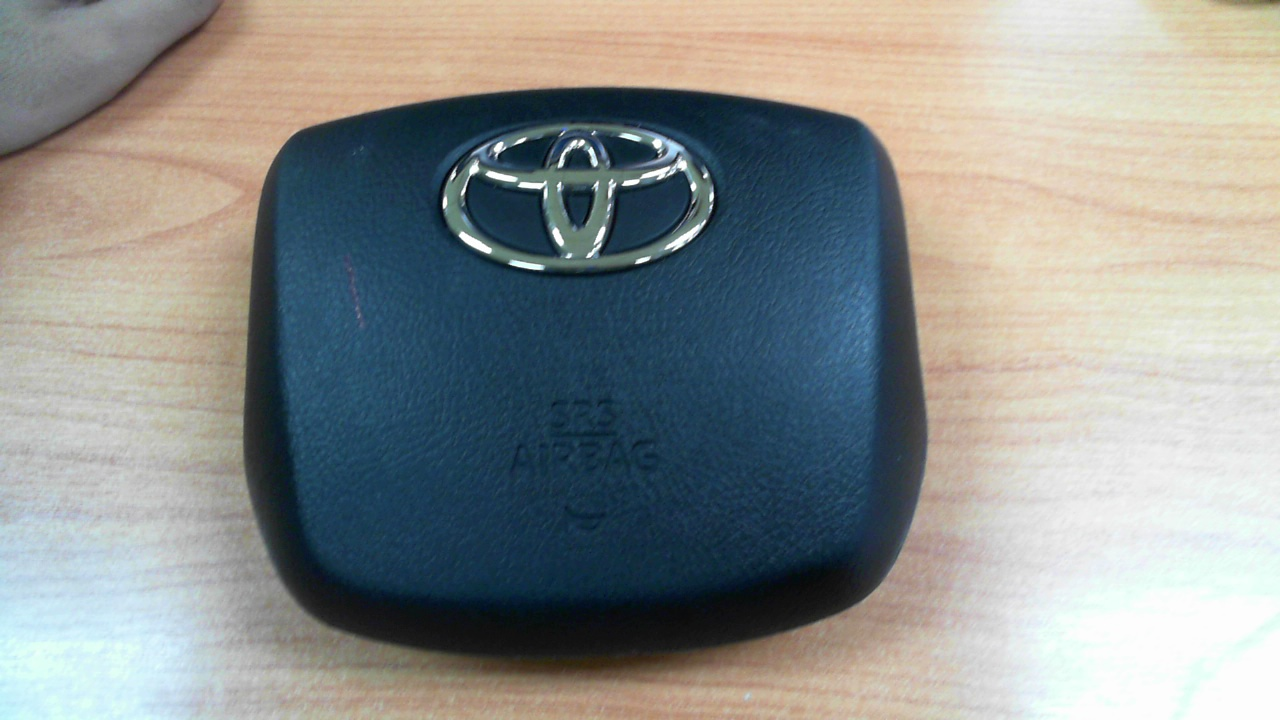Airbag: (241, 87, 930, 657)
Toyota: (442, 122, 714, 271)
